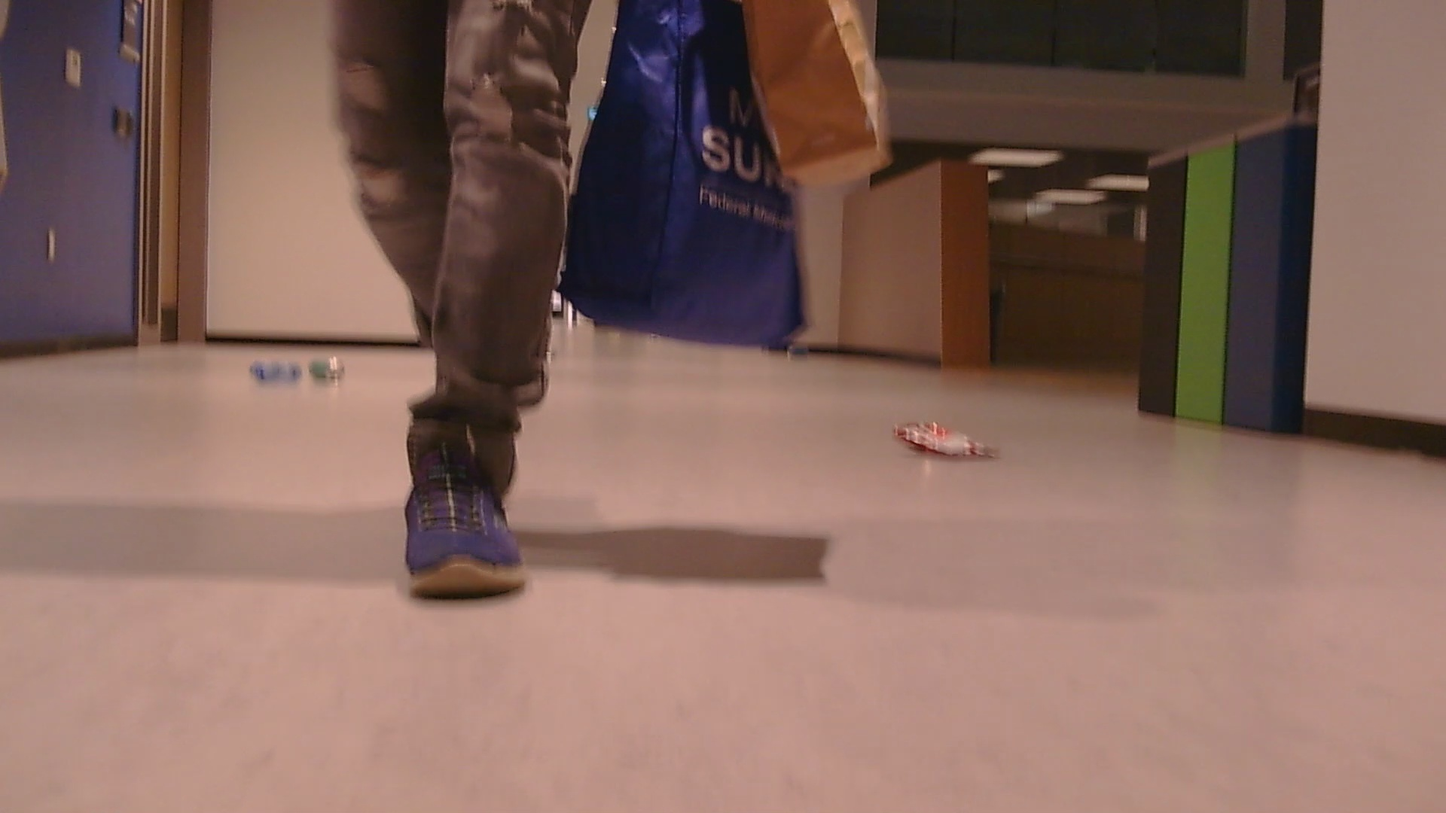carton: (886, 406, 996, 472), (232, 351, 300, 390), (310, 355, 356, 396)
